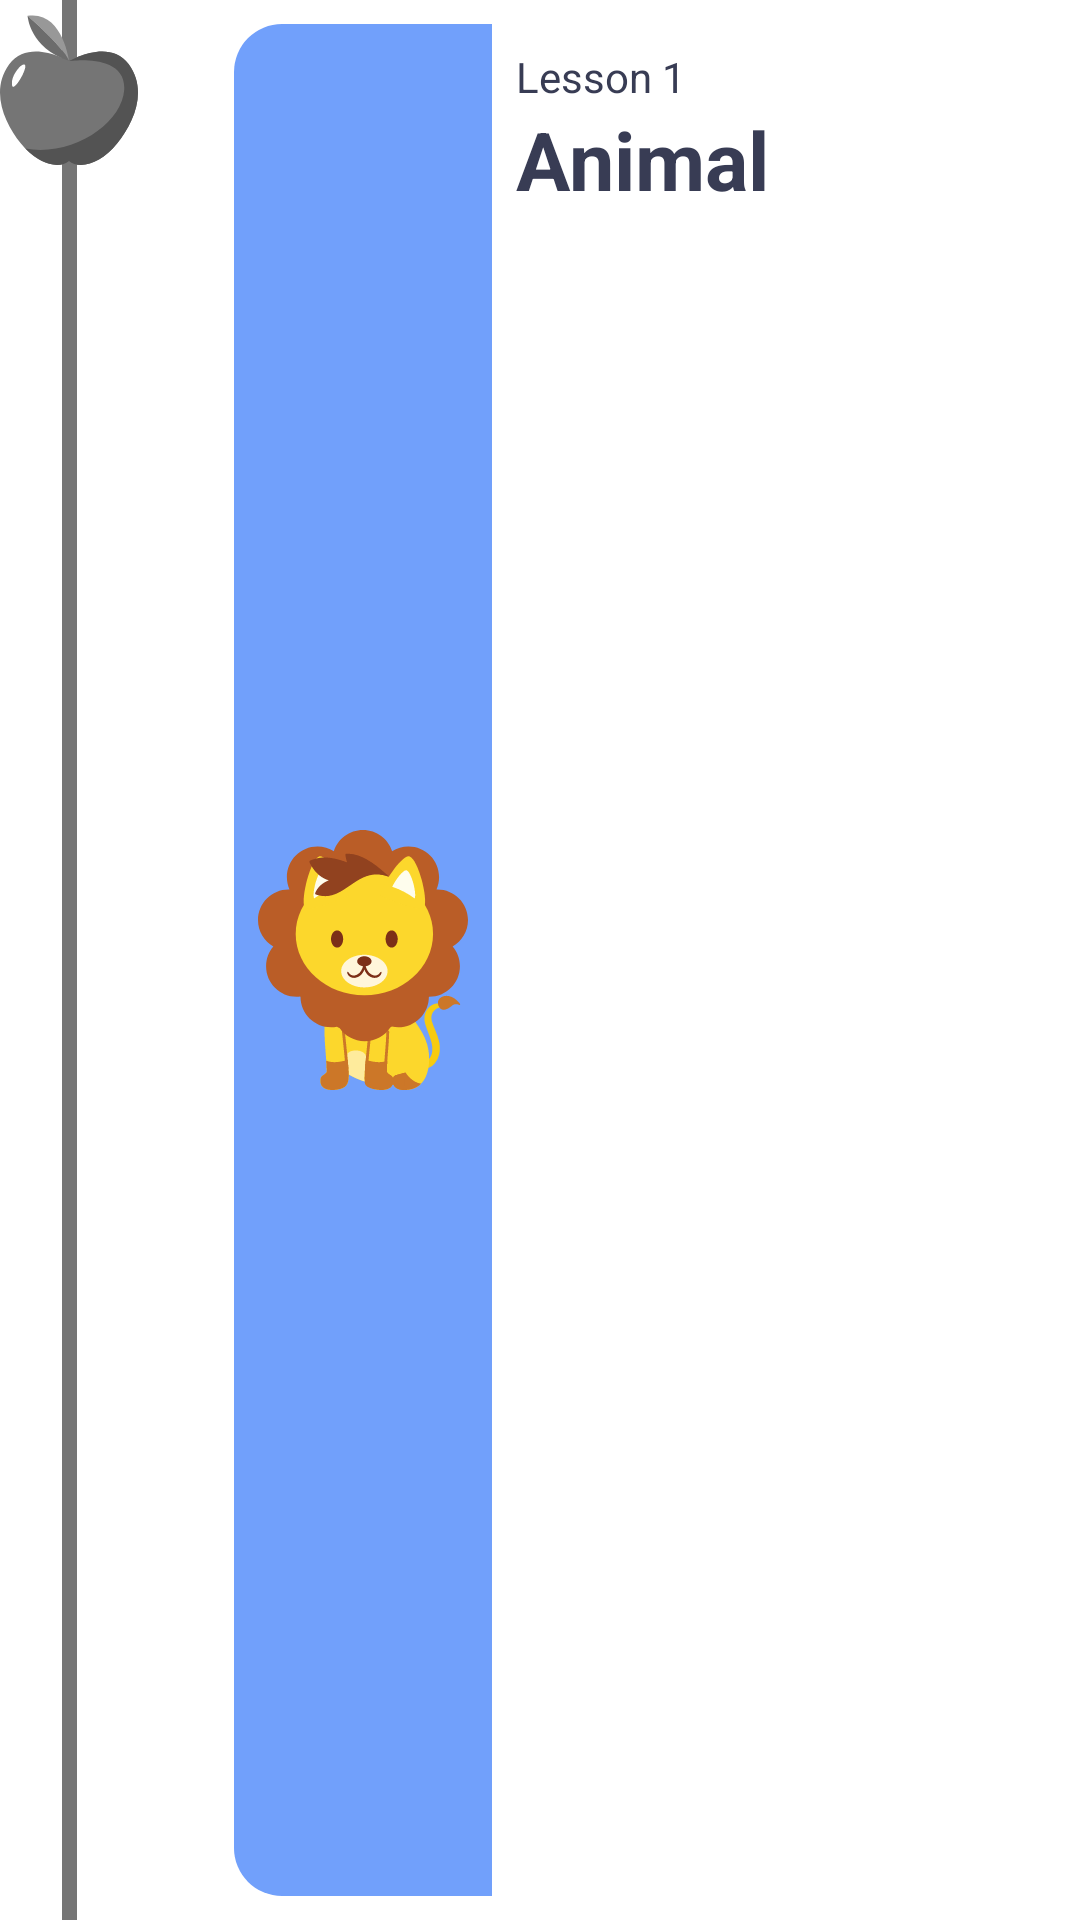

Icons on this 1080 x 1920 Android screen, each with the point to tap as point (x, y):
apple: point (69, 82)
